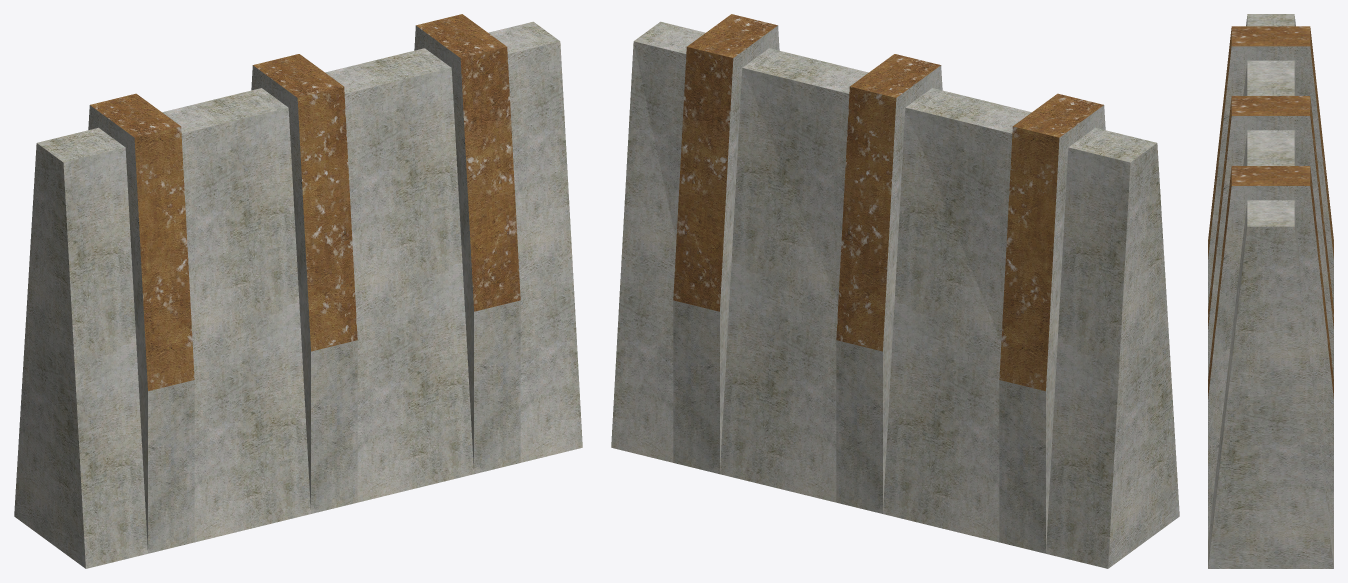
The model's file is mun_all_military_wall_med_rebl_s01_l1.fbx.
3 views of the same model, side by side, from view 1: azimuth 30°, elevation 25°; view 2: azimuth 150°, elevation 25°; view 3: azimuth 270°, elevation 25° (orthographic). The views are drawn at different scales.
Visible parts, largest first — view 1: mesh_node; view 2: mesh_node; view 3: mesh_node.
Boxes of the visible parts, x1=… form: mesh_node: x1=14, y1=14, x2=582, y2=568; mesh_node: x1=611, y1=14, x2=1179, y2=568; mesh_node: x1=1208, y1=14, x2=1333, y2=568.
Bounding box in the file's own units: 8 × 6.25 × 2.
